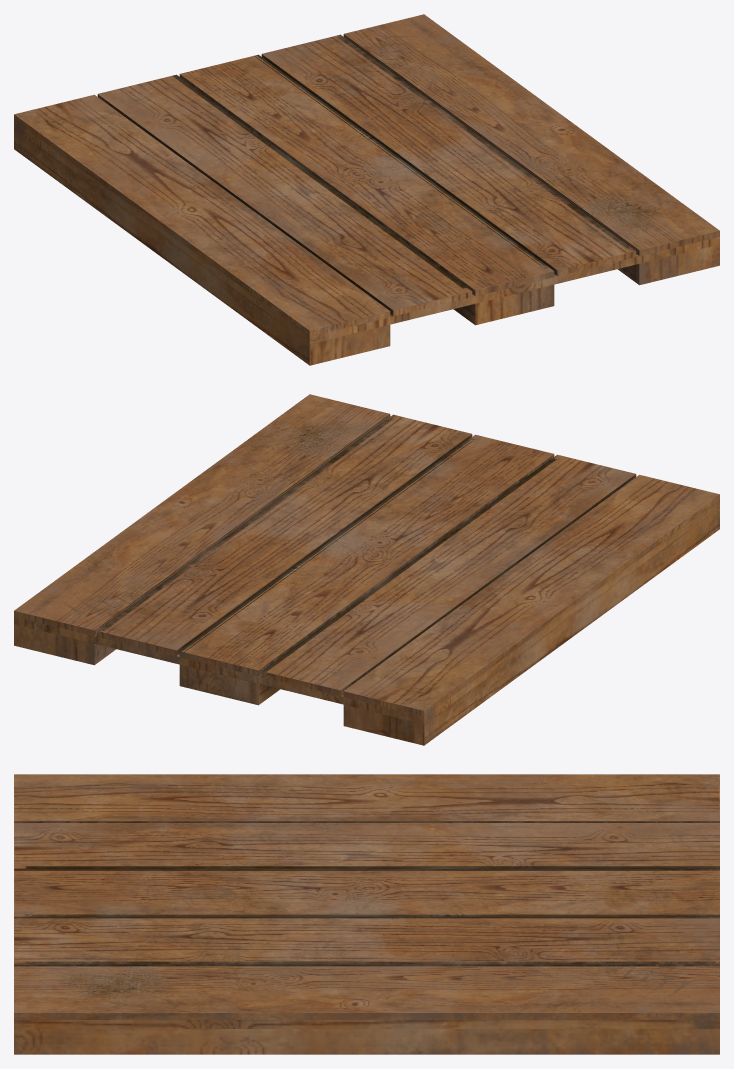
Rendered from Estibias de madera.fbx.
3 views of the same model, one above another, from view 1: azimuth 30°, elevation 25°; view 2: azimuth 150°, elevation 25°; view 3: azimuth 270°, elevation 25° (orthographic). The views are drawn at different scales.
Parts seen in each view (by area): view 1: Paletas.001; view 2: Paletas.001; view 3: Paletas.001.
Part boxes in pixels (<box>): Paletas.001: <box>14,14,719,365</box>; Paletas.001: <box>14,394,719,745</box>; Paletas.001: <box>14,774,719,1054</box>.
Bounding box in the file's own units: 80.04 × 6.51 × 99.98.
2 materials, 2 textured.
